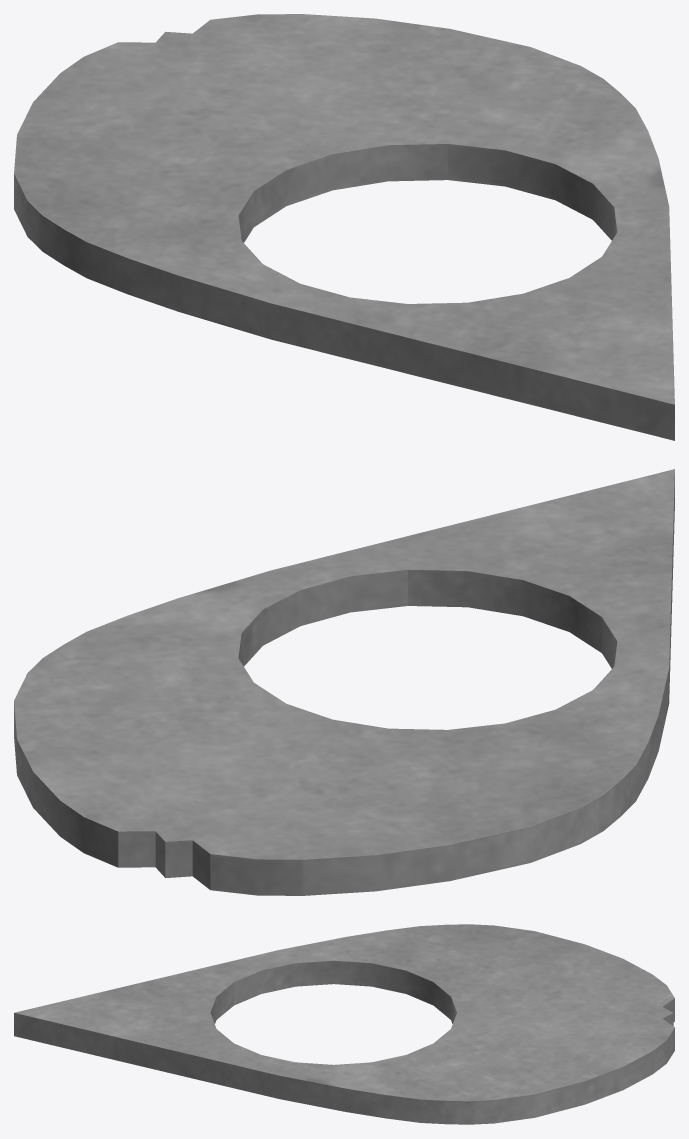
The model's file is planchette.glb.
3 views of the same model, one above another, from view 1: azimuth 30°, elevation 25°; view 2: azimuth 150°, elevation 25°; view 3: azimuth 270°, elevation 25° (orthographic). The views are drawn at different scales.
Parts seen in each view (by area): view 1: arrow_ouija_0; view 2: arrow_ouija_0; view 3: arrow_ouija_0.
Boxes of the visible parts, bbox=[...] form: arrow_ouija_0: bbox=[14, 14, 674, 440]; arrow_ouija_0: bbox=[14, 469, 674, 895]; arrow_ouija_0: bbox=[14, 924, 674, 1124].
Size of the model in its own units: 0.0984 by 0.00606 by 0.1552.
1 material, 1 textured.
